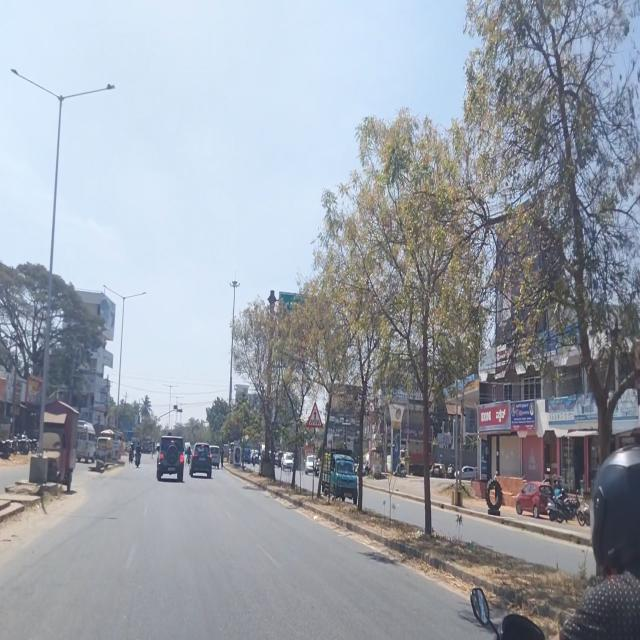bien_cam: (306, 399, 324, 428)
